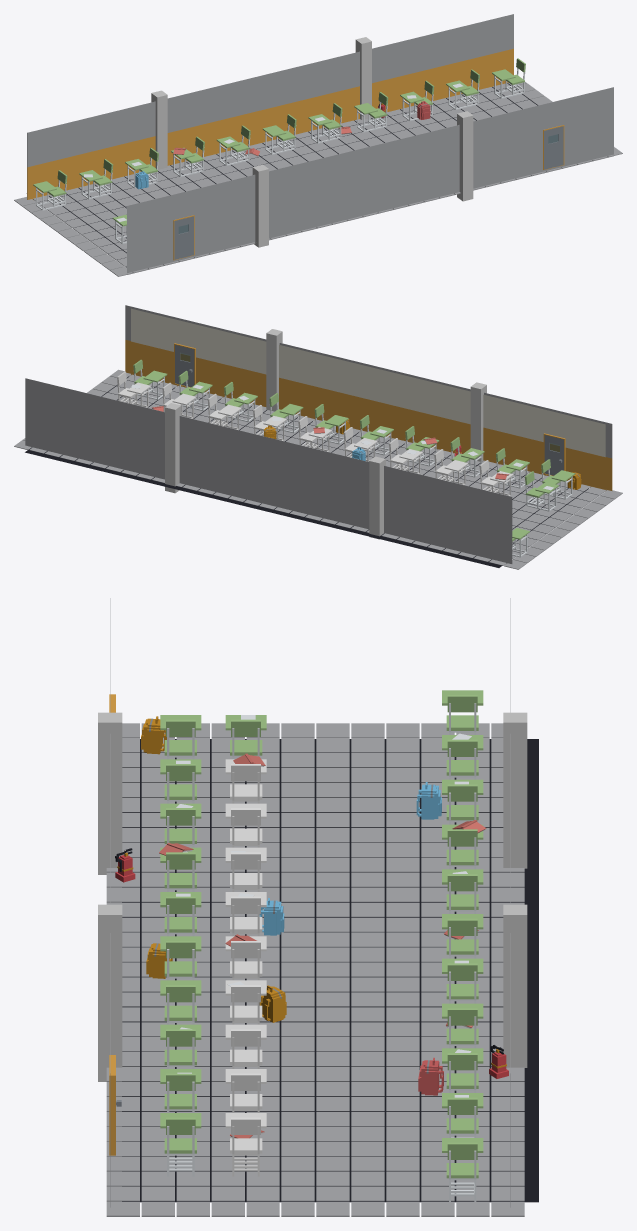
Rendered from stage3_fix.fbx.
3 renders of one model, top to bottom at view 1: azimuth 30°, elevation 25°; view 2: azimuth 150°, elevation 25°; view 3: azimuth 270°, elevation 25°, orthographic. The views are drawn at different scales.
Parts seen in each view (by area): view 1: Cube_2_10_2_2, Cube_4_2_2, Plane, Cube_21_2_2_2, 기둥1, Cube_11_2_2_2, Cube_12_2_2_2, Boolean_1_6, Boolean_1_5; view 2: Cube_4_2_2, 왼쪽벽, Plane, Cube_2_10_2_2, Cube_12_2_2_2, Cube_11_2_2_2, Cube_21_2_2_2, 기둥1, Boolean_1_6, Boolean_1_5; view 3: Plane, Cube_21_2_2_2, Cube_12_2_2_2, Cube_11_2_2_2, 기둥1, 가방_5.
Boxes of the visible parts, x1,y1,x2,y2 form: Cube_2_10_2_2: (127, 87, 613, 274); Cube_4_2_2: (27, 14, 513, 199); Plane: (26, 83, 537, 266); Cube_21_2_2_2: (457, 111, 473, 201); 기둥1: (252, 164, 268, 247); Cube_11_2_2_2: (151, 90, 167, 169); Cube_12_2_2_2: (355, 37, 371, 119); Boolean_1_6: (544, 126, 563, 169); Boolean_1_5: (174, 216, 193, 259); Cube_4_2_2: (25, 378, 512, 563); 왼쪽벽: (131, 308, 605, 489); Plane: (25, 376, 596, 567); Cube_2_10_2_2: (125, 305, 612, 490); Cube_12_2_2_2: (165, 403, 181, 493); Cube_11_2_2_2: (369, 456, 385, 539); Cube_21_2_2_2: (266, 329, 282, 411); 기둥1: (470, 382, 486, 461); Boolean_1_6: (175, 345, 194, 387); Boolean_1_5: (544, 435, 563, 475); Plane: (122, 739, 538, 1202); Cube_21_2_2_2: (98, 904, 122, 1081); Cube_12_2_2_2: (503, 904, 527, 1067); Cube_11_2_2_2: (503, 712, 527, 868); 기둥1: (98, 712, 122, 874); 가방_5: (418, 1057, 443, 1095).
Bounding box in the file's own units: 8367 × 1322 × 3166.
